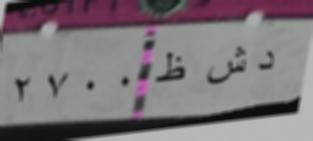0: (80, 74, 101, 99), (117, 69, 133, 95)
2: (8, 70, 36, 105)
7: (47, 67, 70, 103)
Thaa: (153, 48, 188, 88)
daal: (256, 46, 278, 79)
sheen: (203, 47, 249, 90)
